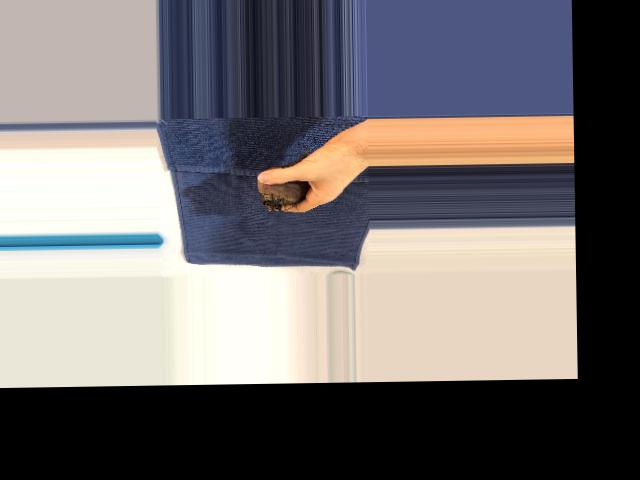beet: (256, 148, 308, 211)
